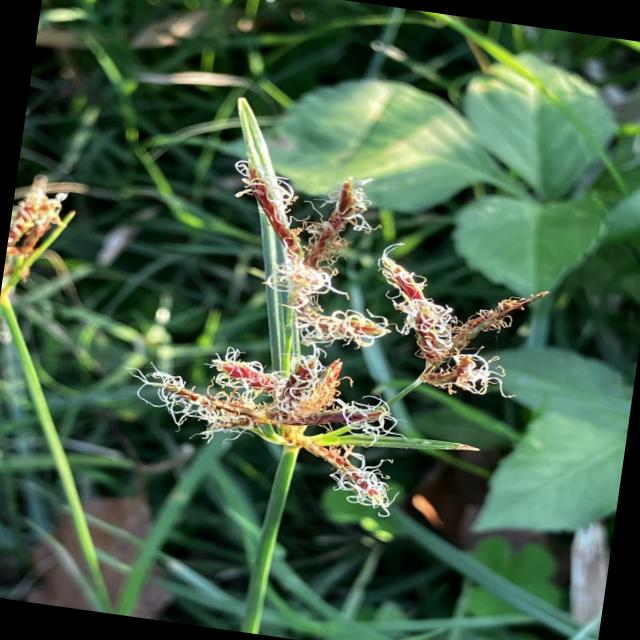cyperus: (112, 136, 582, 560), (0, 164, 94, 343)
